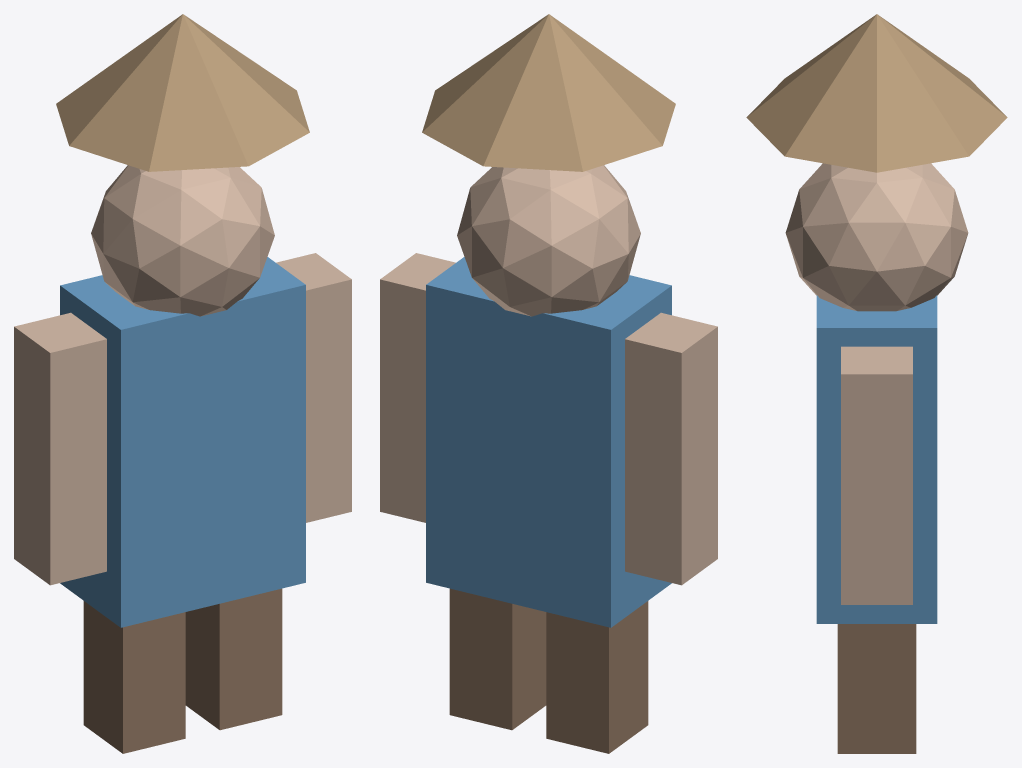
The model's file is npc_aldeano.glb.
3 views of the same model, side by side, from view 1: azimuth 30°, elevation 25°; view 2: azimuth 150°, elevation 25°; view 3: azimuth 270°, elevation 25° (orthographic).
Visible parts, largest first — view 1: part_001, part_006, part_004, part_000, part_002, part_005, part_003; view 2: part_001, part_006, part_004, part_000, part_002, part_005, part_003; view 3: part_006, part_000, part_001, part_005, part_003.
Boxes of the visible parts, x1=… form: part_001: x1=60, y1=257, x2=305, y2=627; part_006: x1=56, y1=14, x2=309, y2=171; part_004: x1=14, y1=312, x2=106, y2=585; part_000: x1=91, y1=165, x2=274, y2=316; part_002: x1=83, y1=601, x2=185, y2=753; part_005: x1=276, y1=253, x2=351, y2=522; part_003: x1=185, y1=588, x2=282, y2=730; part_001: x1=426, y1=257, x2=671, y2=627; part_006: x1=422, y1=14, x2=675, y2=171; part_004: x1=625, y1=312, x2=717, y2=585; part_000: x1=457, y1=165, x2=640, y2=316; part_002: x1=546, y1=601, x2=648, y2=753; part_005: x1=380, y1=253, x2=455, y2=522; part_003: x1=449, y1=588, x2=546, y2=730; part_006: x1=746, y1=14, x2=1007, y2=172; part_000: x1=785, y1=163, x2=968, y2=311; part_001: x1=816, y1=295, x2=937, y2=623; part_005: x1=841, y1=346, x2=912, y2=604; part_003: x1=837, y1=624, x2=916, y2=753.
Size of the model in its own units: 1.06 by 2.37 by 0.8.
